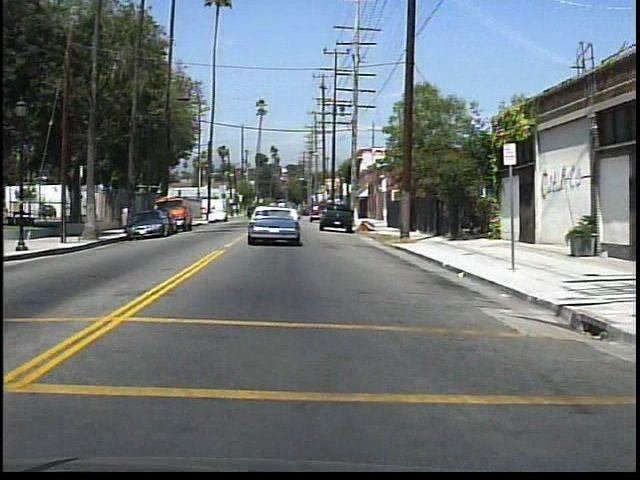person: (35, 198, 51, 223), (83, 197, 97, 225), (121, 201, 131, 231)
